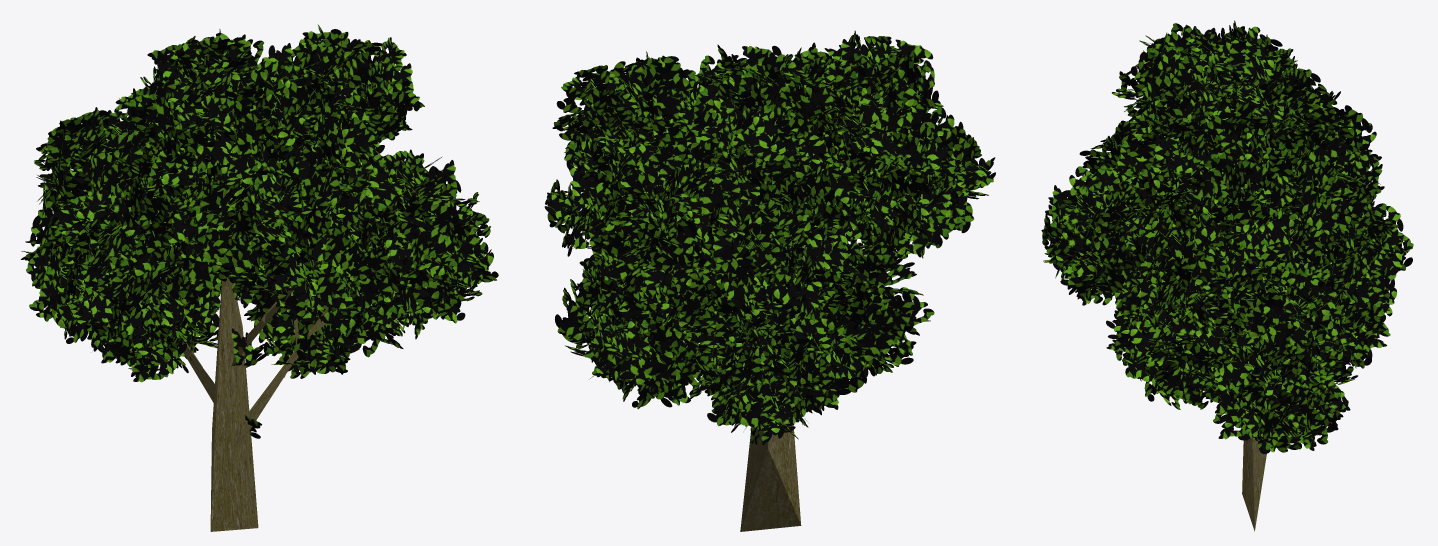
The model's file is oak_broadleaf_v01_LOD1.fbx.
3 views of the same model, side by side, from view 1: azimuth 30°, elevation 25°; view 2: azimuth 150°, elevation 25°; view 3: azimuth 270°, elevation 25° (orthographic). The views are drawn at different scales.
Visible parts, largest first — view 1: oak_broadleaf_v01_LOD1; view 2: oak_broadleaf_v01_LOD1; view 3: oak_broadleaf_v01_LOD1.
Part boxes in pixels (x1,y1,x2,y2): oak_broadleaf_v01_LOD1: (21, 24, 498, 531); oak_broadleaf_v01_LOD1: (544, 30, 995, 531); oak_broadleaf_v01_LOD1: (1041, 20, 1413, 531).
Size of the model in its own units: 1499 by 1267 by 1706.
Materials: 2 (2 with a texture image).
